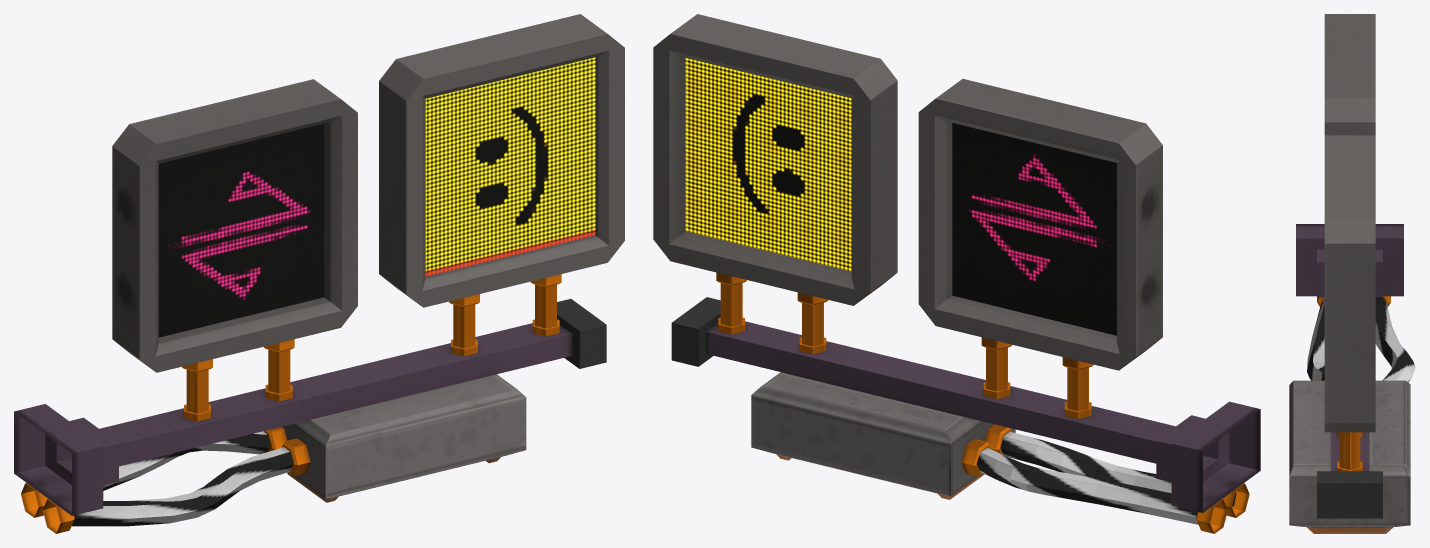
The model's file is AdScreen.glb.
3 renders of one model, left to right at view 1: azimuth 30°, elevation 25°; view 2: azimuth 150°, elevation 25°; view 3: azimuth 270°, elevation 25°, orthographic. The views are drawn at different scales.
Visible parts, largest first — view 1: Cube.037; view 2: Cube.037; view 3: Cube.037.
Boxes of the visible parts, <box> form: Cube.037: <box>14,14,624,533</box>; Cube.037: <box>653,14,1260,533</box>; Cube.037: <box>1289,14,1415,533</box>.
Size of the model in its own units: 6.71 by 4.45 by 1.39.
2 materials, 2 textured.
